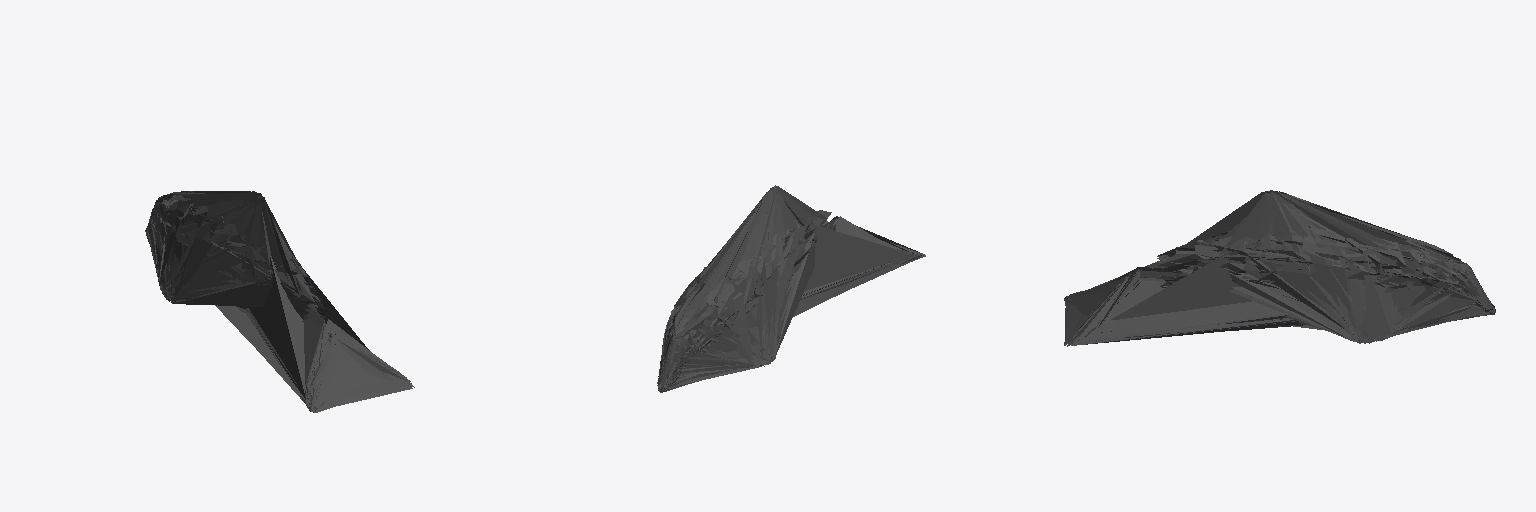
Rendered from Dolphin.obj.
3 views of the same model, side by side, from view 1: azimuth 30°, elevation 25°; view 2: azimuth 150°, elevation 25°; view 3: azimuth 270°, elevation 25° (orthographic).
Parts seen in each view (by area): view 1: Dolphin01; view 2: Dolphin01; view 3: Dolphin01.
Part boxes in pixels (x1,y1,x2,y2): Dolphin01: (145,191,414,412); Dolphin01: (657,185,925,392); Dolphin01: (1064,190,1495,346).
Bounding box in the file's own units: 234 × 284 × 839.